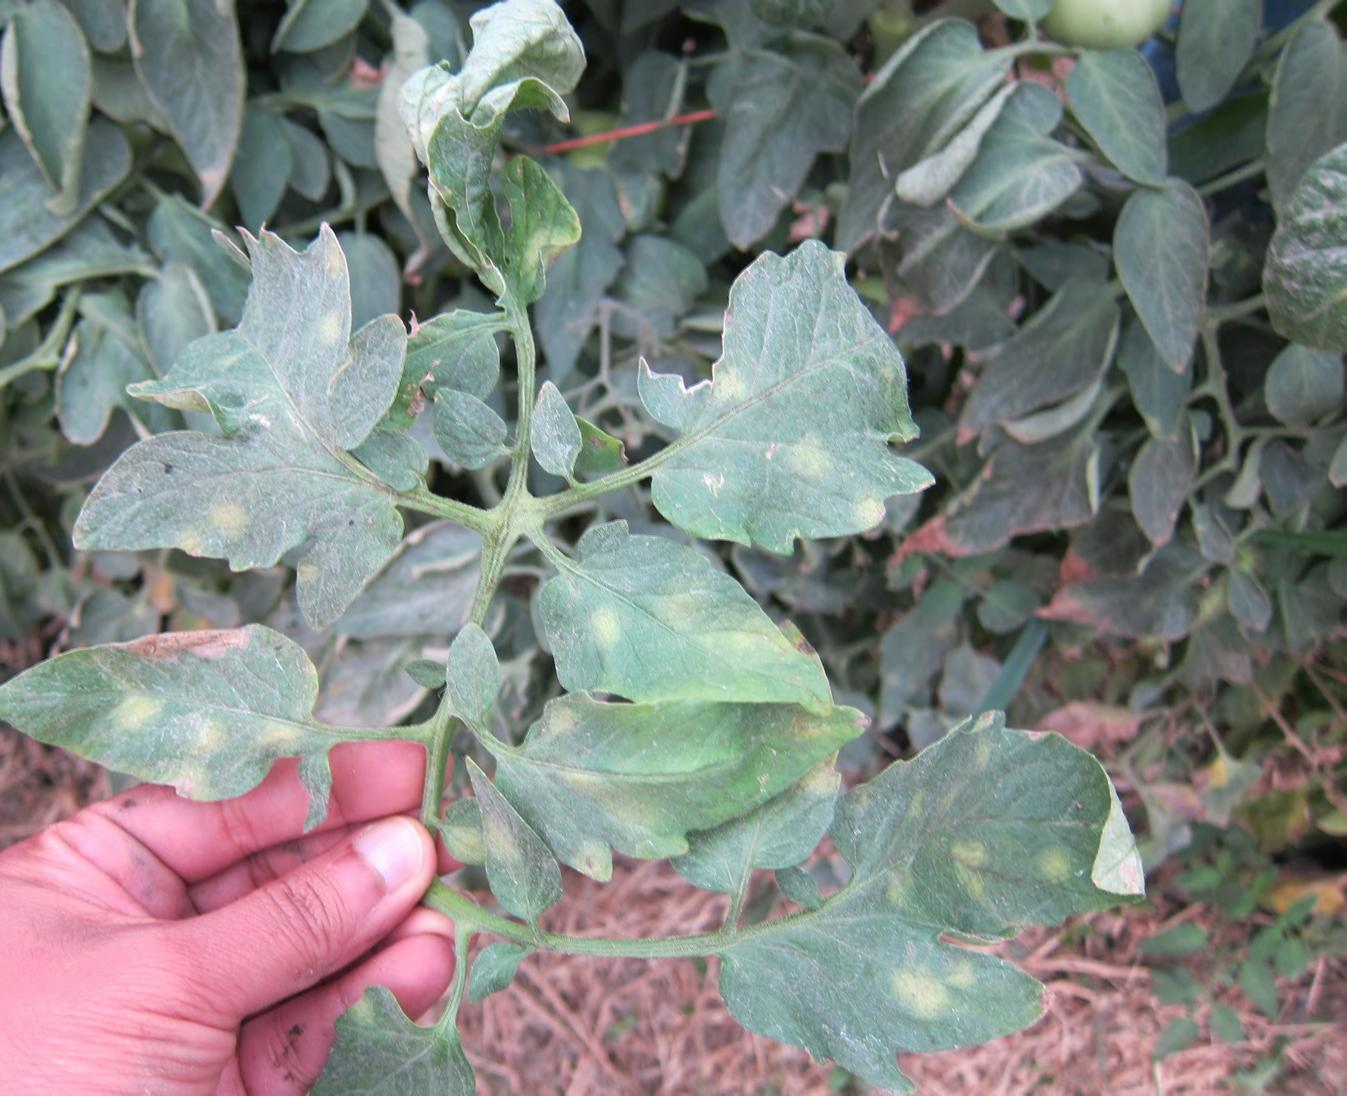Tomato mold leaf: (61, 208, 412, 614), (624, 240, 940, 557), (826, 690, 1182, 942), (544, 519, 853, 804), (464, 714, 885, 916), (665, 907, 1117, 1092), (0, 582, 333, 821), (396, 0, 596, 303), (279, 976, 494, 1096)
